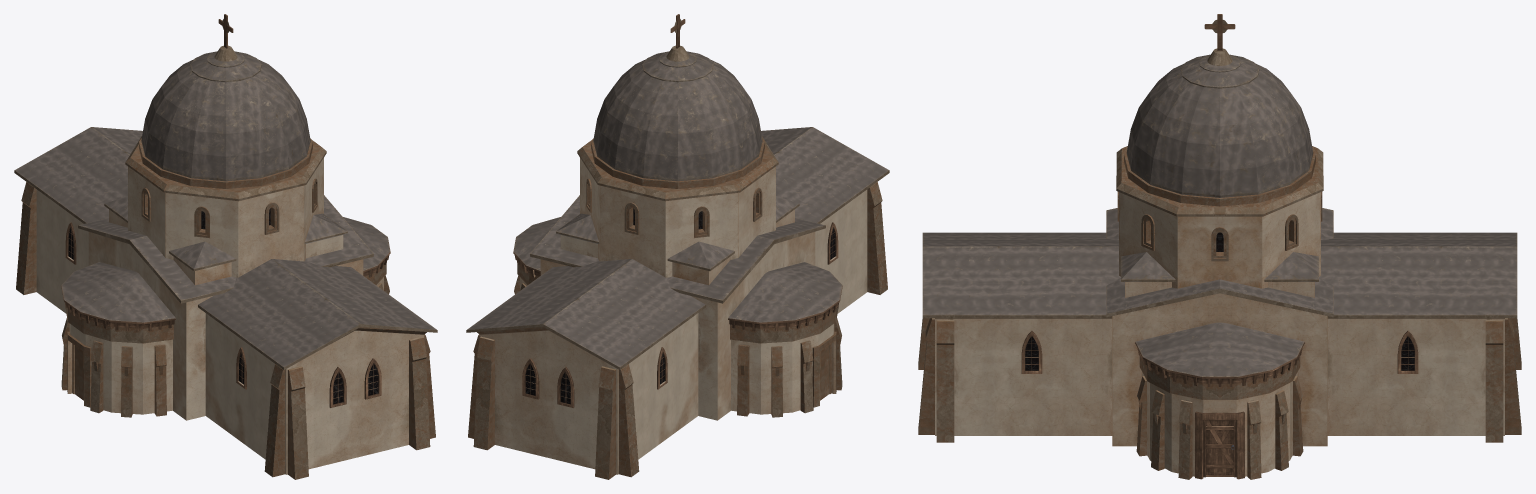
Rendered from iglesis.glb.
3 renders of one model, left to right at view 1: azimuth 30°, elevation 25°; view 2: azimuth 150°, elevation 25°; view 3: azimuth 270°, elevation 25°, orthographic. The views are drawn at different scales.
Visible parts, largest first — view 1: Church; view 2: Church; view 3: Church.
Part boxes in pixels (x1,y1,x2,y2): Church: [14, 14, 437, 479]; Church: [466, 14, 889, 479]; Church: [918, 14, 1521, 479].
Bounding box in the file's own units: 14.22 × 15.43 × 21.91.
Materials: 1 (1 with a texture image).
